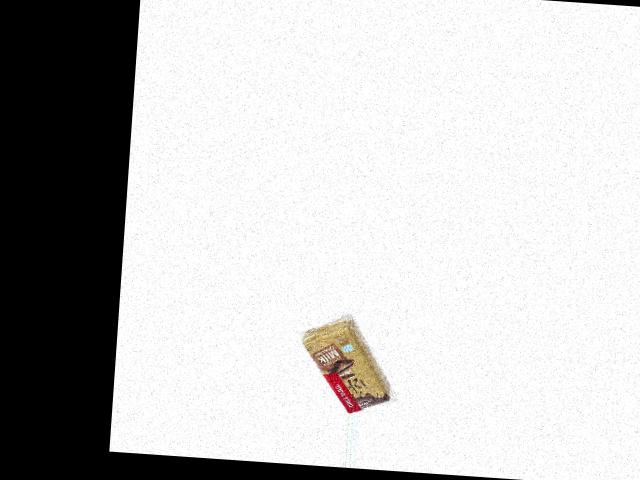chocolate: (285, 312, 397, 414)
